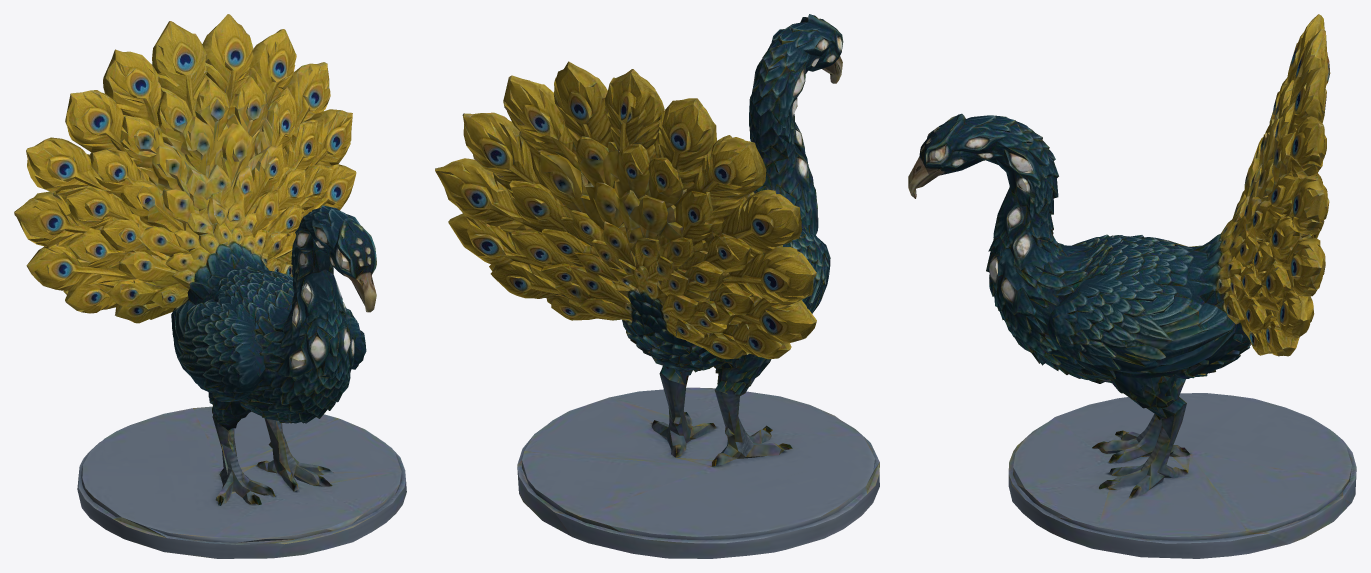
Rendered from vacker.glb.
The picture shows the model from 3 angles, left to right: view 1: azimuth 30°, elevation 25°; view 2: azimuth 150°, elevation 25°; view 3: azimuth 270°, elevation 25°; orthographic projection. The views are drawn at different scales.
Parts seen in each view (by area): view 1: output_unwrapped; view 2: output_unwrapped; view 3: output_unwrapped.
Boxes of the visible parts, x1,y1,x2,y2 form: output_unwrapped: [14, 14, 406, 558]; output_unwrapped: [435, 14, 879, 558]; output_unwrapped: [908, 14, 1356, 558].
Bounding box in the file's own units: 1.6 × 1.9 × 1.7.
Materials: 1 (1 with a texture image).
